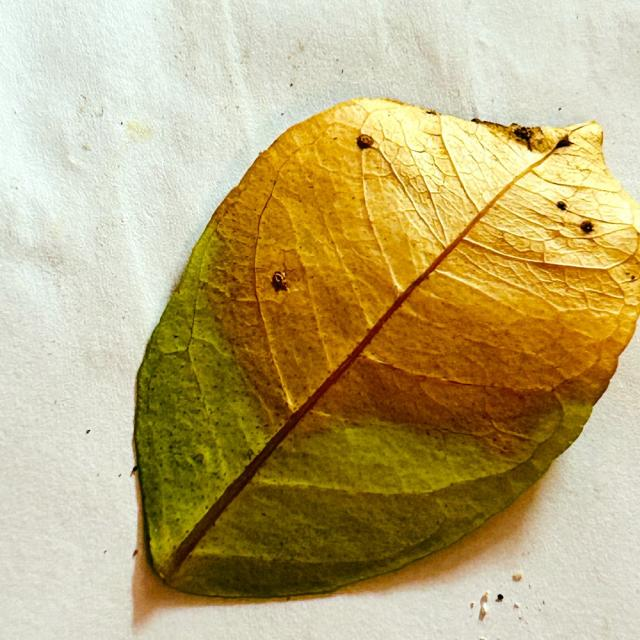DryLeaf_Lemon: (213, 99, 639, 452)
